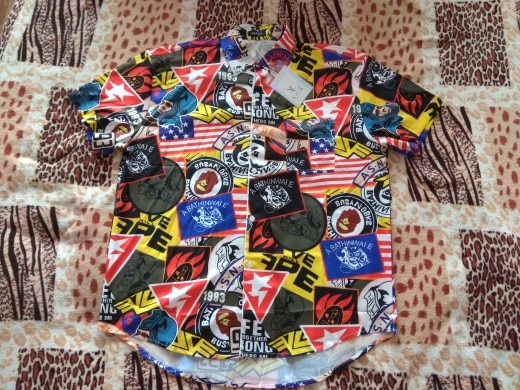shirts: (81, 22, 440, 382)
